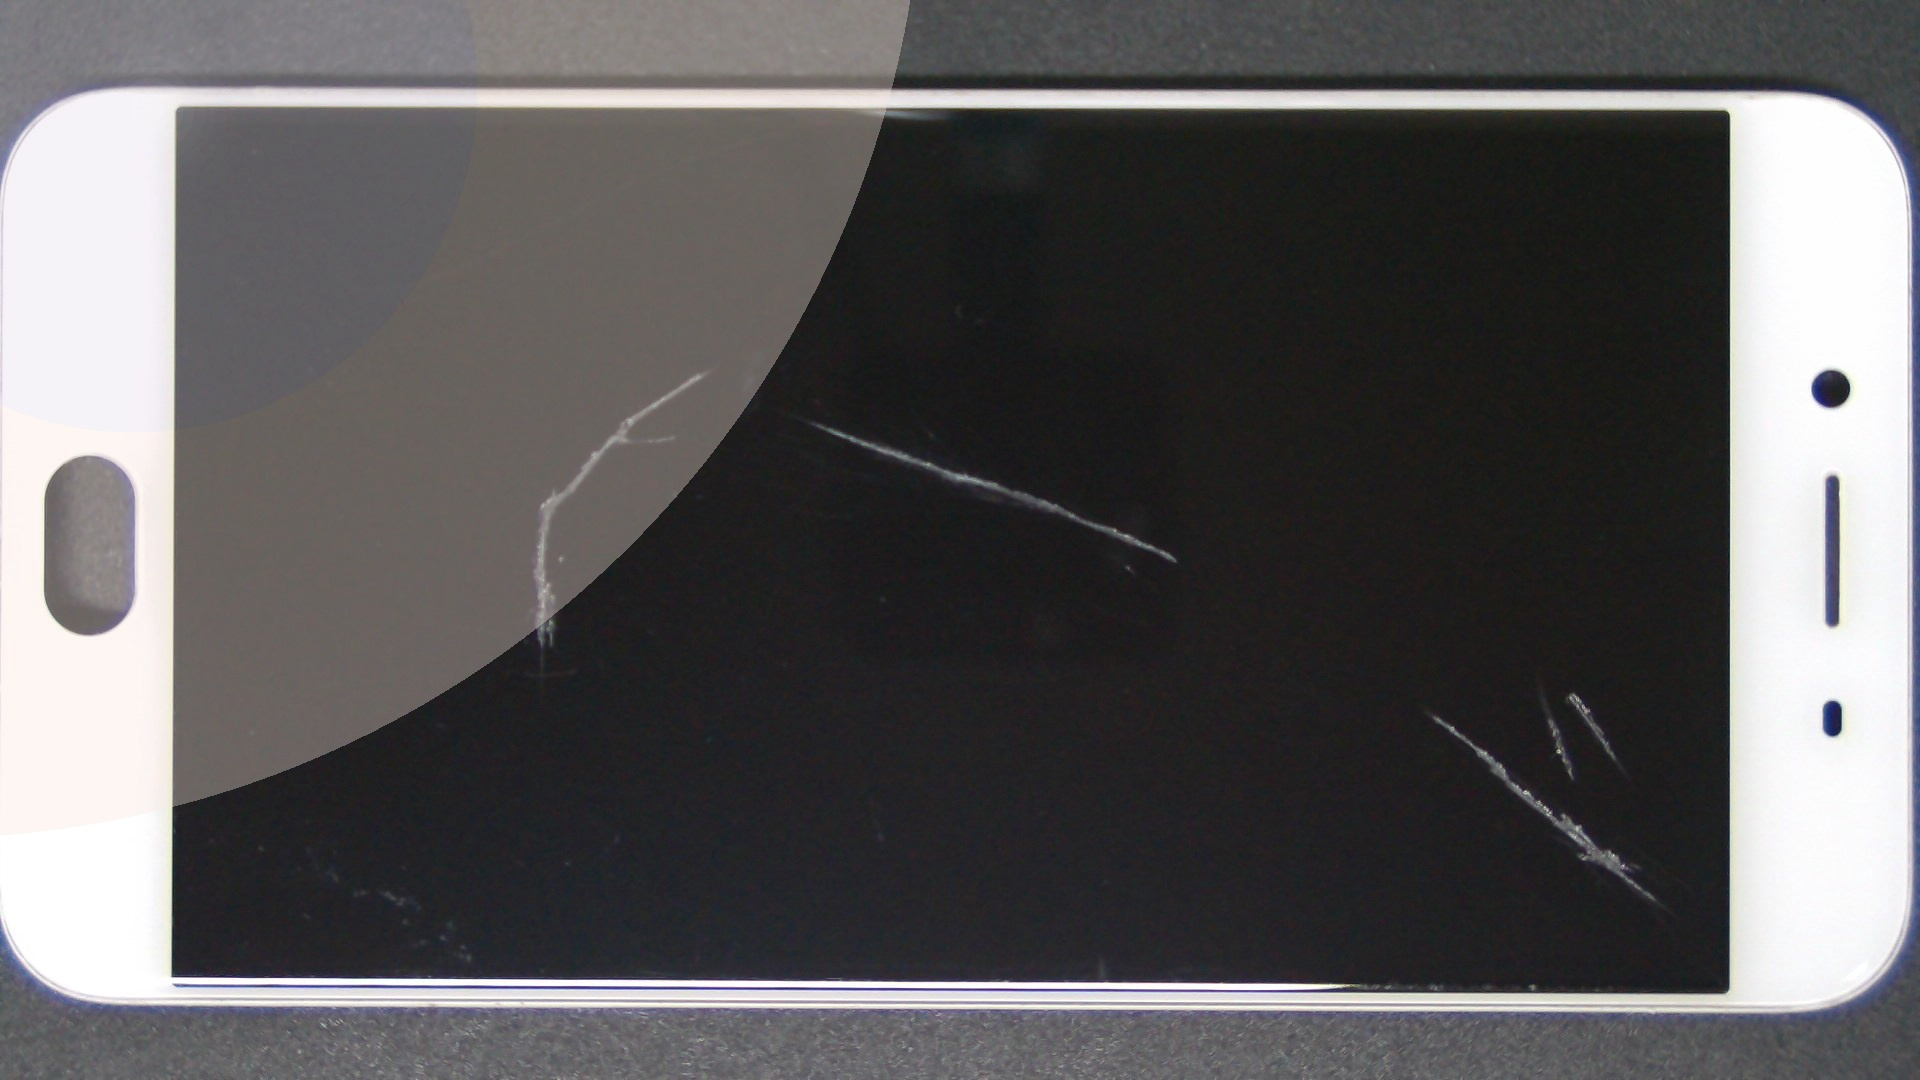oil: (716, 356, 1920, 1073), (771, 351, 1920, 1055), (785, 345, 1920, 1039), (407, 210, 1221, 632), (349, 185, 1044, 559)
